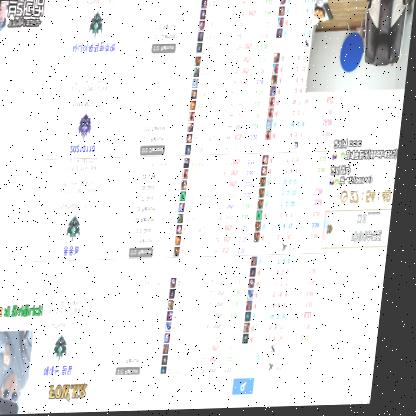donation: (0, 300, 52, 416)
